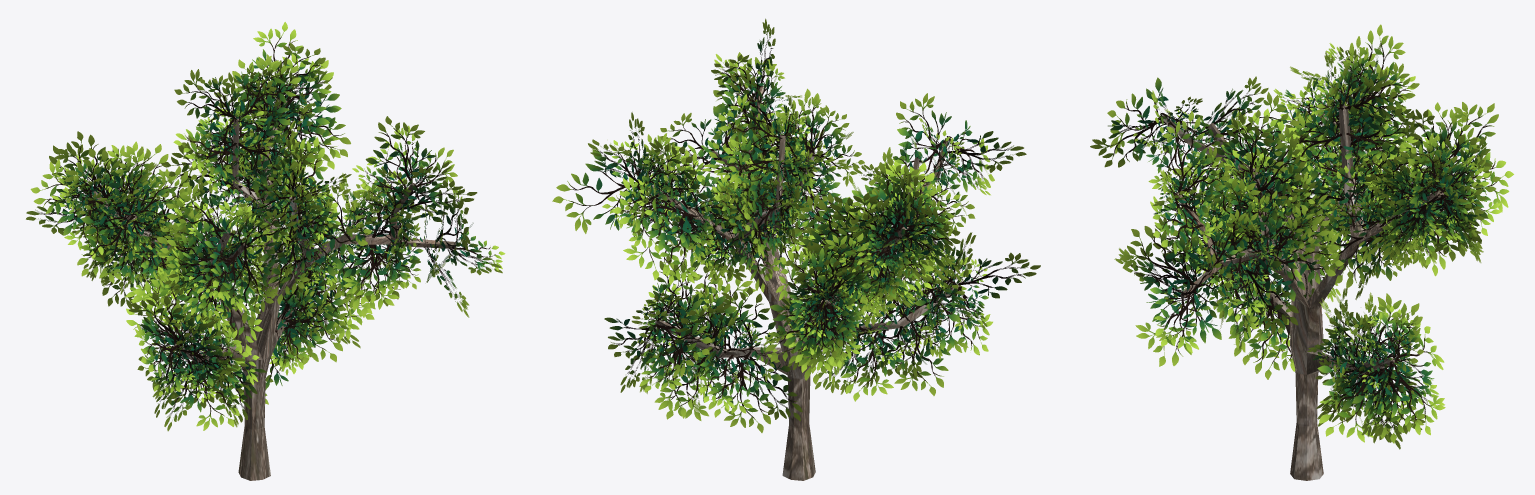
The model's file is tree02.fbx.
3 renders of one model, left to right at view 1: azimuth 30°, elevation 25°; view 2: azimuth 150°, elevation 25°; view 3: azimuth 270°, elevation 25°, orthographic. The views are drawn at different scales.
Parts seen in each view (by area): view 1: tree2; view 2: tree2; view 3: tree2.
Part boxes in pixels (box(x1,y1,x2,y2)): tree2: box(26, 22, 505, 480); tree2: box(552, 18, 1040, 480); tree2: box(1090, 24, 1513, 480).
Bounding box in the file's own units: 693 × 678 × 623.
2 materials, 2 textured.
